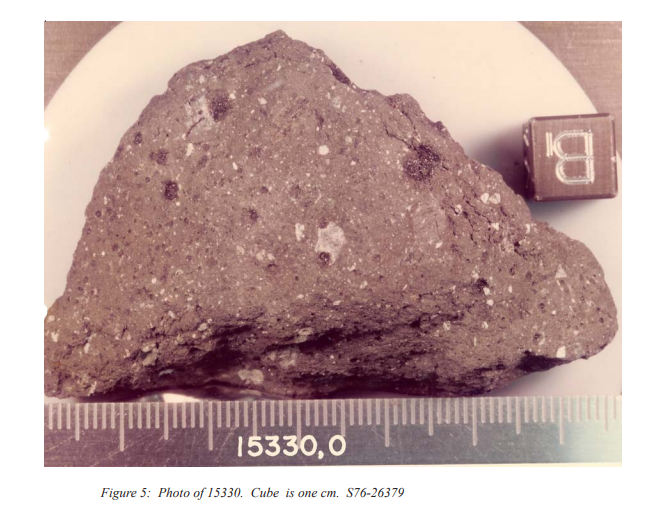Breccia: (46, 22, 620, 383)
